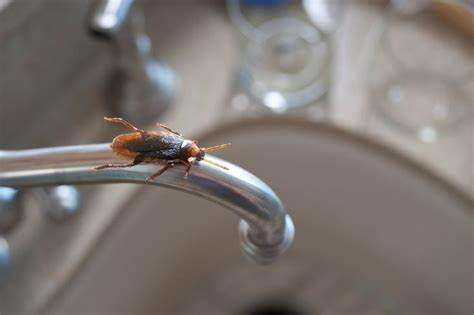cockroach: (106, 126, 206, 174)
